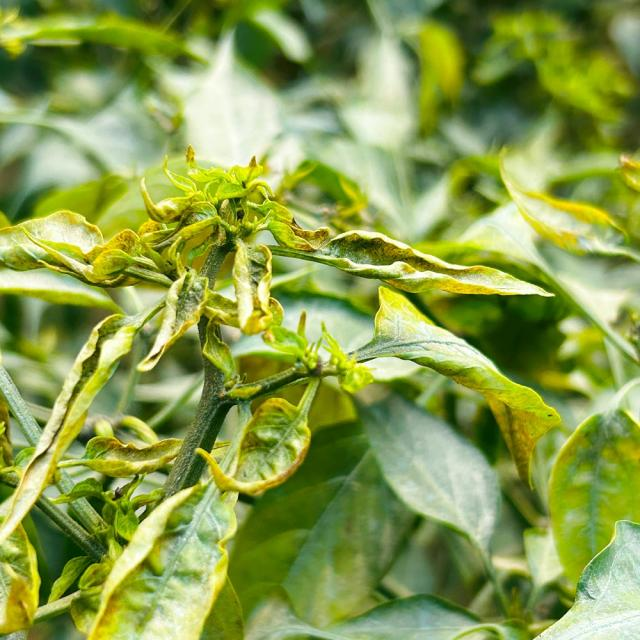Chilli_Leaf_Curl: (0, 145, 563, 638), (347, 284, 562, 492), (0, 307, 152, 544), (84, 478, 242, 638), (265, 227, 556, 299), (545, 407, 639, 592), (530, 518, 638, 639)
